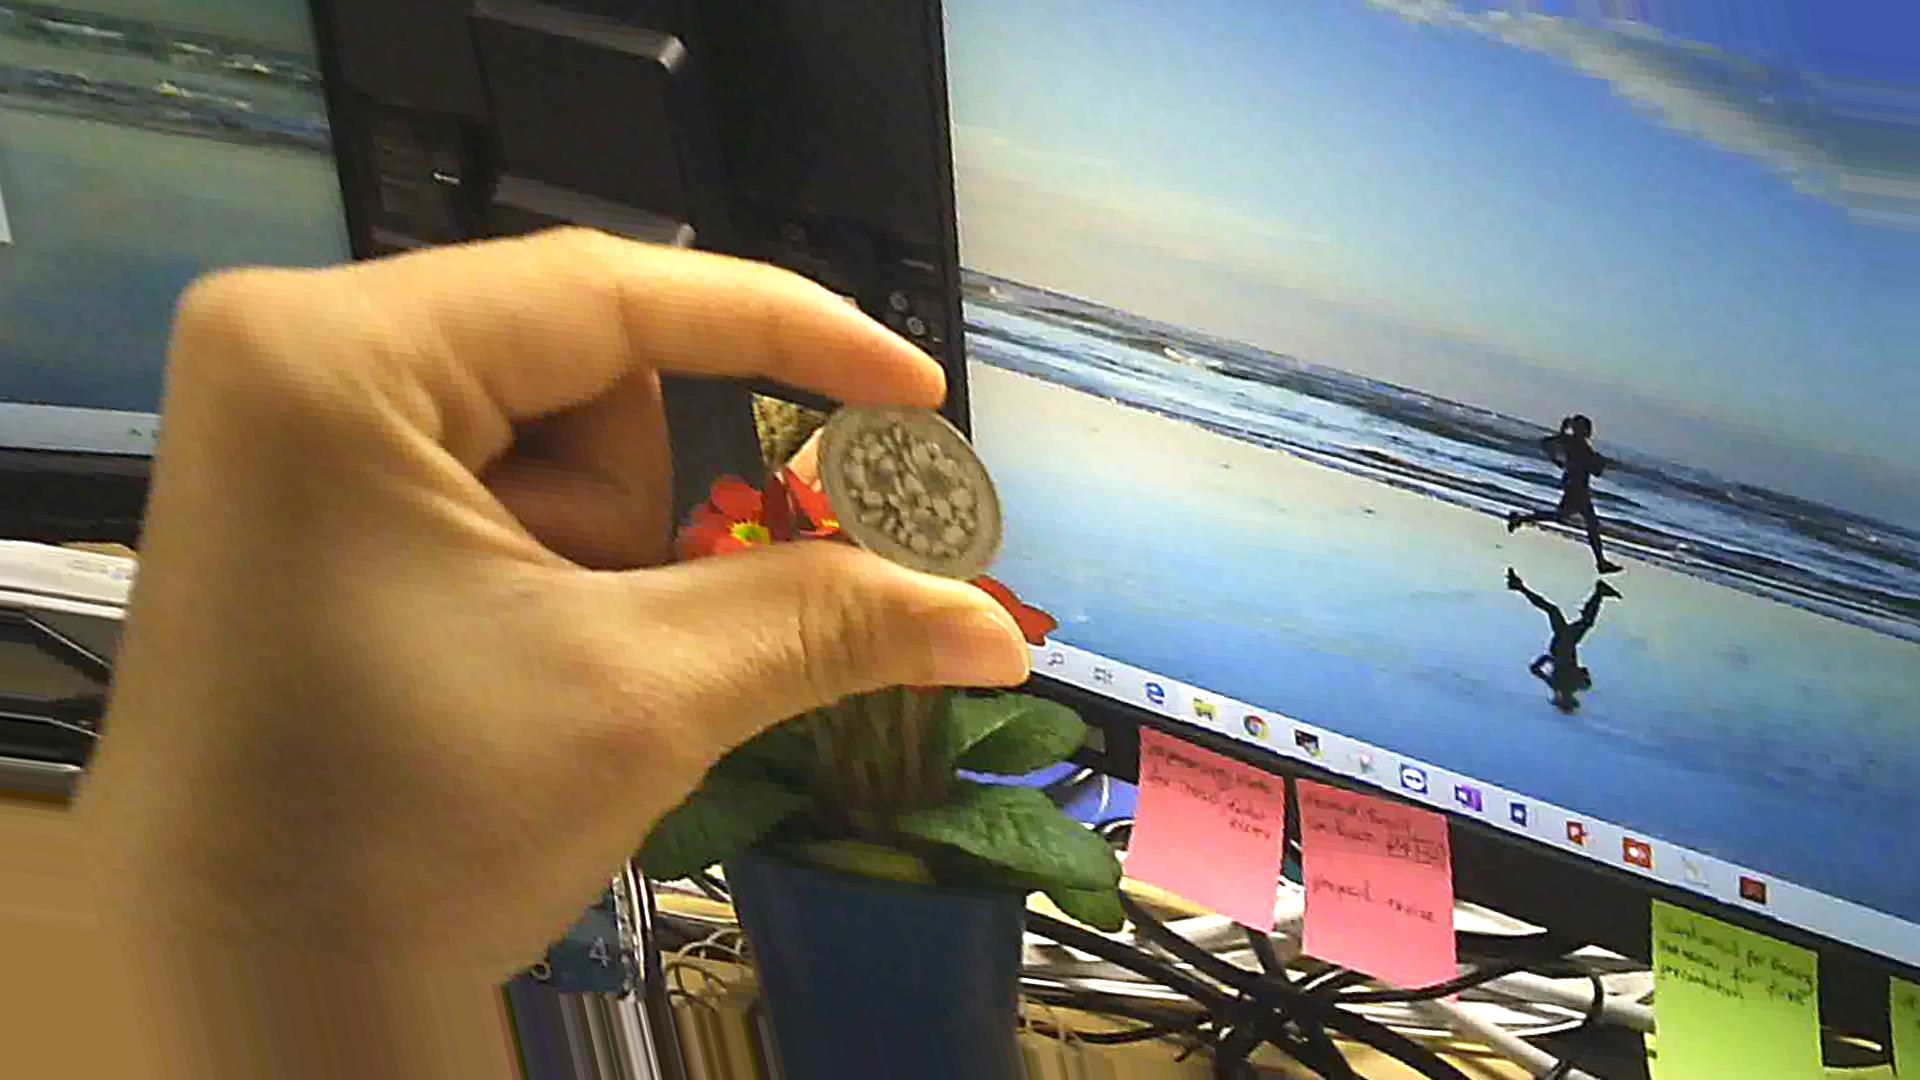100 Yen: (811, 392, 1000, 593)
